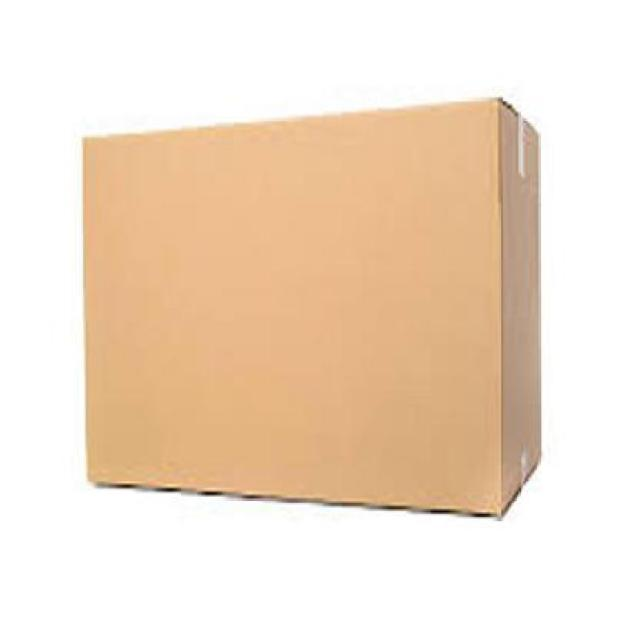normal: (77, 91, 549, 529)
